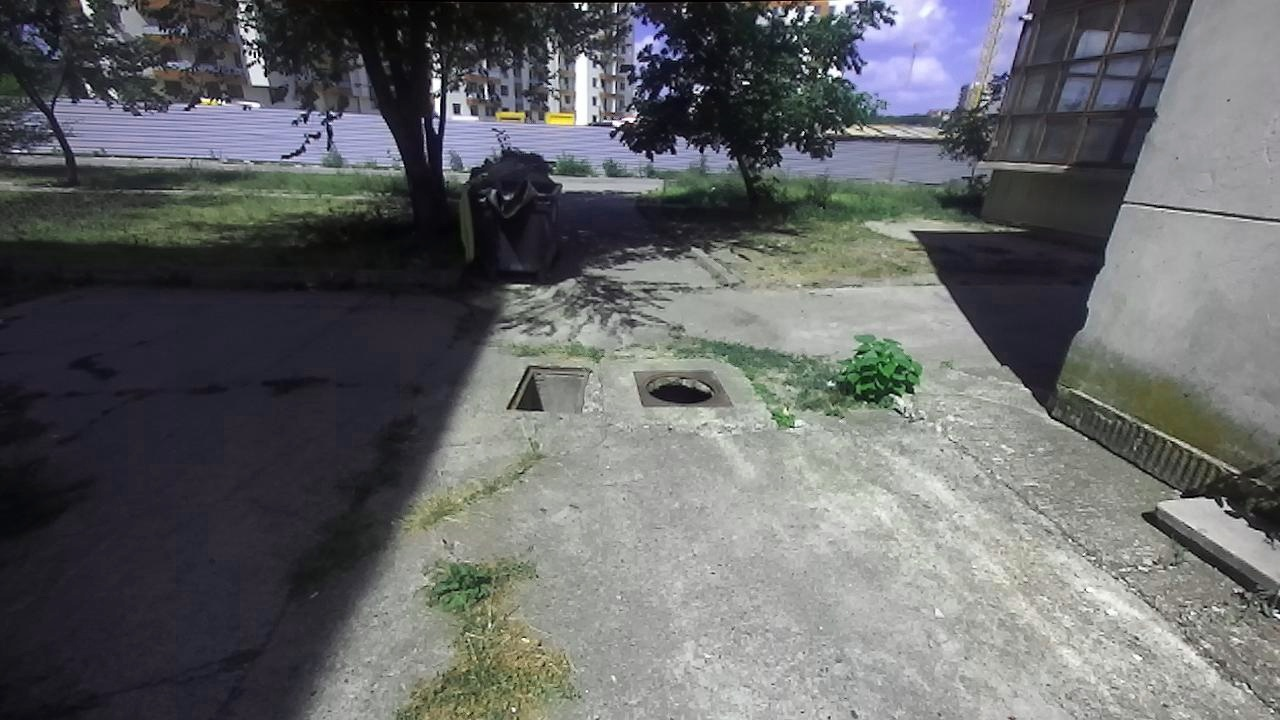drain: (502, 363, 593, 412), (638, 369, 719, 403)
